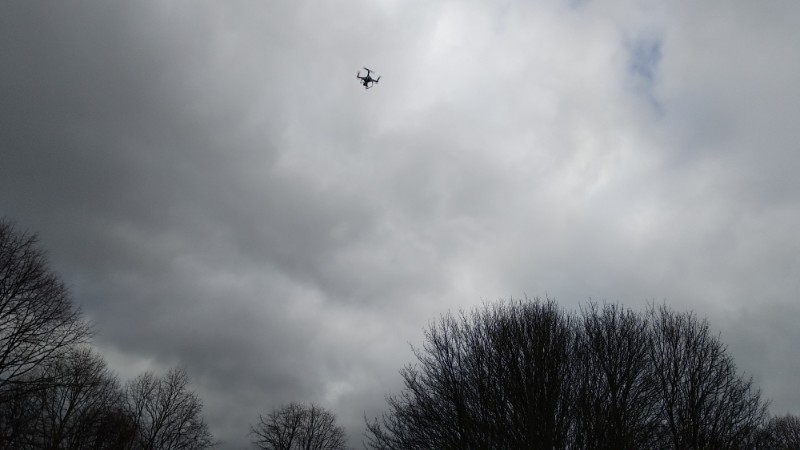drone: (356, 67, 382, 90)
